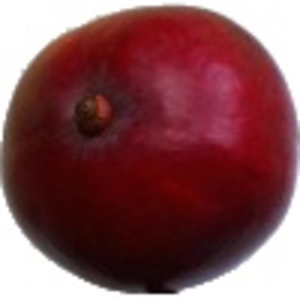manga: (1, 4, 300, 294)
